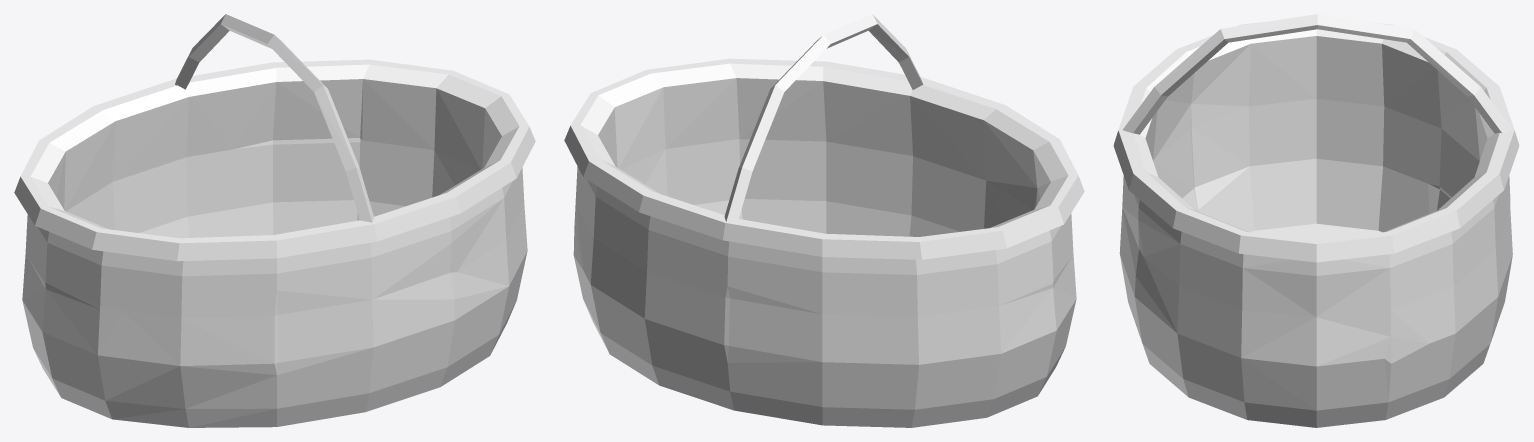
File: Prop_Basket_01.glb
3 views of the same model, side by side, from view 1: azimuth 30°, elevation 25°; view 2: azimuth 150°, elevation 25°; view 3: azimuth 270°, elevation 25° (orthographic).
Parts seen in each view (by area): view 1: Prop_Basket_01; view 2: Prop_Basket_01; view 3: Prop_Basket_01.
Part boxes in pixels (<box>): Prop_Basket_01: <box>14,14,535,427</box>; Prop_Basket_01: <box>564,14,1084,427</box>; Prop_Basket_01: <box>1113,14,1519,427</box>.
Bounding box in the file's own units: 0.6348 × 0.3927 × 0.4662.
Materials: 1 (1 with a texture image).
